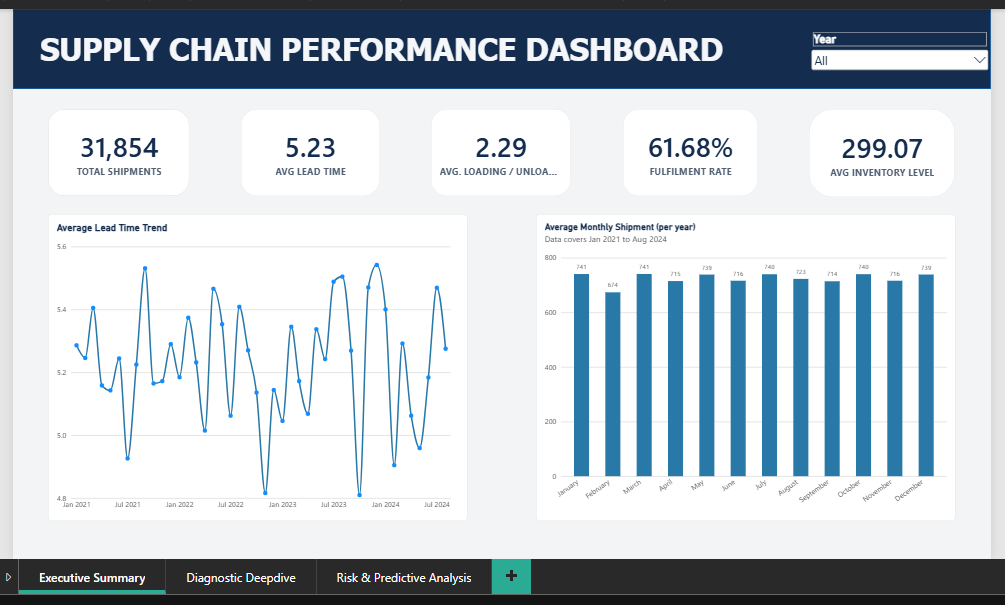

This screenshot's page, from the dashboard's own definition file:
{"tool":"powerbi","page":{"name":"Executive Summary","canvas":[1920,1080],"ordinal":0},"visuals":[{"type":"cardVisual","fields":{"Data":["Avg(cleaned_fleet_supply_chain.lead_time_days)"]},"box":[448,196.1,272.5,171.4],"z":0},{"type":"cardVisual","fields":{"Data":["cleaned_fleet_supply_chain.Total Shipments Display"]},"box":[68.1,196.1,278.7,171.4],"z":1000},{"type":"cardVisual","fields":{"Data":["Avg(cleaned_fleet_supply_chain.loading_unloading_time)"]},"box":[821.7,196.1,274.6,171.4],"z":2000},{"type":"cardVisual","fields":{"Data":["Avg(cleaned_fleet_supply_chain.order_fulfillment_status)"]},"box":[1197.4,196.1,264.3,171.4],"z":3000},{"type":"shape","box":[0,0,1920,156.9],"z":4000},{"type":"lineChart","title":"Average Lead Time Trend","fields":{"Category":["cleaned_fleet_supply_chain.timestamp.Variation.Date Hierarchy.Year","cleaned_fleet_supply_chain.timestamp.Variation.Date Hierarchy.Month"],"Y":["Avg(cleaned_fleet_supply_chain.lead_time_days)"]},"box":[68.1,402.6,823.7,602.8],"z":5000},{"type":"cardVisual","fields":{"Data":["Avg(cleaned_fleet_supply_chain.warehouse_inventory_level)"]},"box":[1562.8,196.1,287,173.4],"z":6000},{"type":"clusteredColumnChart","title":"Monthly Shipment Volume","fields":{"Category":["cleaned_fleet_supply_chain.timestamp.Variation.Date Hierarchy.Month"],"Y":["CountNonNull(cleaned_fleet_supply_chain.timestamp)"]},"box":[1026.1,402.6,823.7,602.8],"z":7000},{"type":"slicer","fields":{"Values":["cleaned_fleet_supply_chain.Year"]},"box":[1562.8,45.4,357.2,97],"z":8000}]}

Visuals, with their boxes on the page's 1920x1080 design canvas (x1, y1, x2, y2). These are canvas units, not pixel positions in the 1005x605 screenshot, which may show the page scaled, cropped or inside an application window:
cardVisual - Avg(cleaned_fleet_supply_chain.lead_time_days): 448,196,720,368
cardVisual - cleaned_fleet_supply_chain.Total Shipments Display: 68,196,347,368
cardVisual - Avg(cleaned_fleet_supply_chain.loading_unloading_time): 822,196,1096,368
cardVisual - Avg(cleaned_fleet_supply_chain.order_fulfillment_status): 1197,196,1462,368
shape: 0,0,1920,157
"Average Lead Time Trend" lineChart: 68,403,892,1005
cardVisual - Avg(cleaned_fleet_supply_chain.warehouse_inventory_level): 1563,196,1850,370
"Monthly Shipment Volume" clusteredColumnChart: 1026,403,1850,1005
slicer - cleaned_fleet_supply_chain.Year: 1563,45,1920,142
